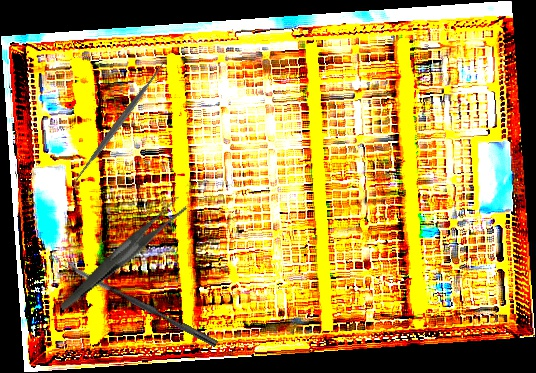Dressing Forceps: (39, 195, 205, 311)
Spatula Surgical: (65, 57, 172, 192)
Surgical Spoon: (61, 258, 219, 348)
